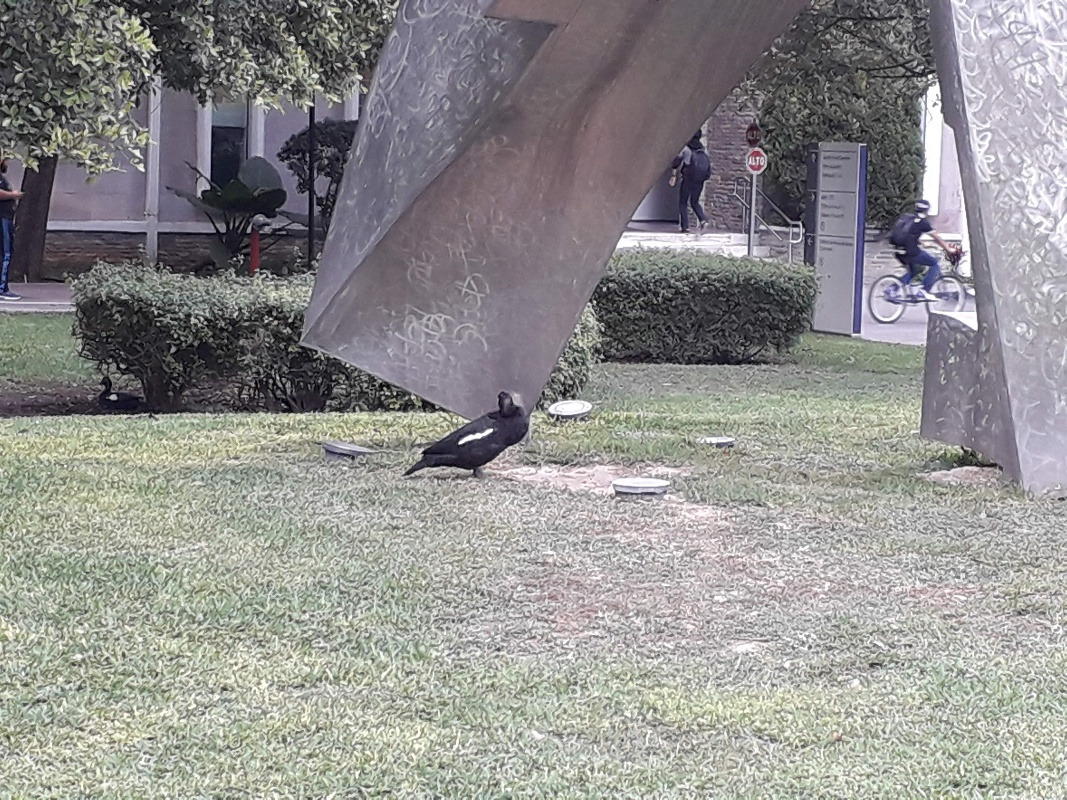pato: (420, 394, 524, 466)
